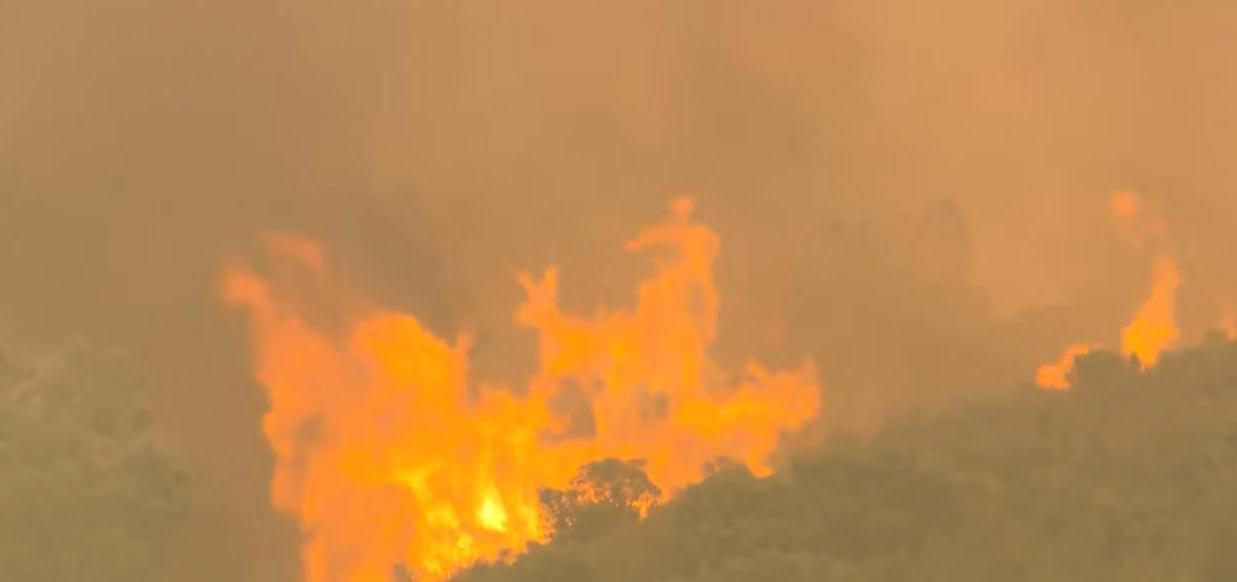Fire: (223, 184, 835, 580), (1032, 246, 1189, 396)
